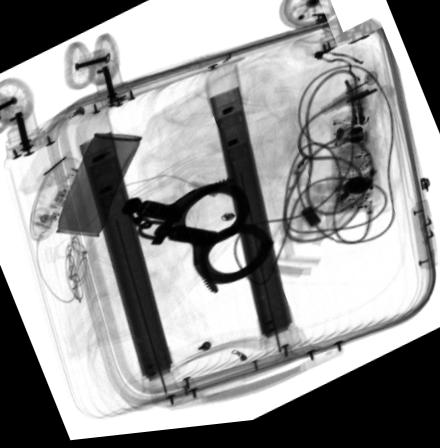HandCuffs: (114, 180, 274, 298)
